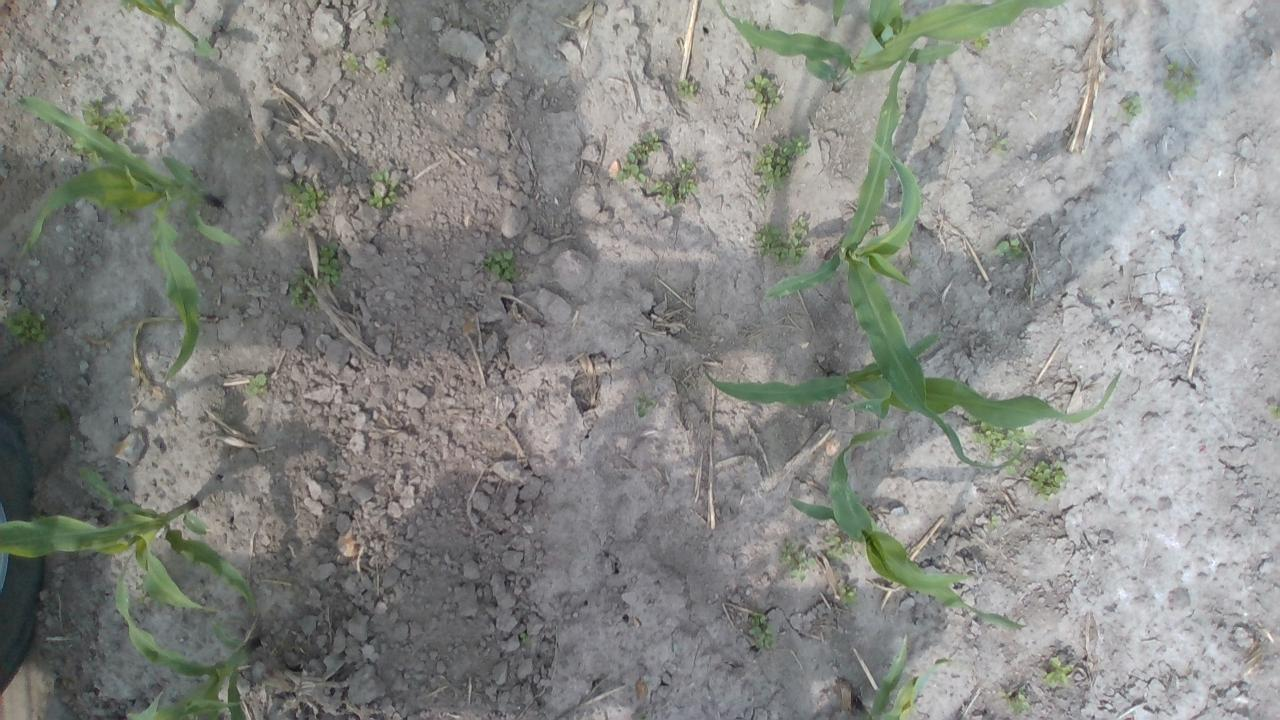Maize: (760, 41, 1030, 472), (14, 96, 248, 385), (786, 428, 1025, 634), (702, 329, 1124, 436), (0, 467, 259, 615), (714, 1, 1072, 87), (116, 578, 264, 720), (120, 3, 224, 62), (865, 634, 938, 718)
Weeds: (78, 102, 134, 156), (755, 214, 811, 264), (758, 137, 808, 184), (613, 136, 662, 182), (650, 165, 700, 207), (280, 183, 318, 235), (981, 424, 1030, 457), (1, 304, 38, 344), (478, 250, 518, 278), (1030, 462, 1067, 490), (1164, 64, 1191, 100), (368, 172, 394, 208), (754, 72, 782, 105), (786, 540, 810, 578), (818, 534, 852, 558), (318, 241, 340, 278), (344, 52, 386, 70), (288, 275, 310, 308), (748, 612, 766, 644), (1046, 658, 1068, 684), (1008, 691, 1032, 711), (1123, 94, 1140, 118), (997, 241, 1021, 258), (678, 78, 698, 96), (370, 16, 398, 28), (246, 375, 268, 390), (988, 133, 1008, 148), (841, 582, 855, 600), (636, 397, 650, 413), (70, 434, 82, 450), (1273, 402, 1280, 419)
